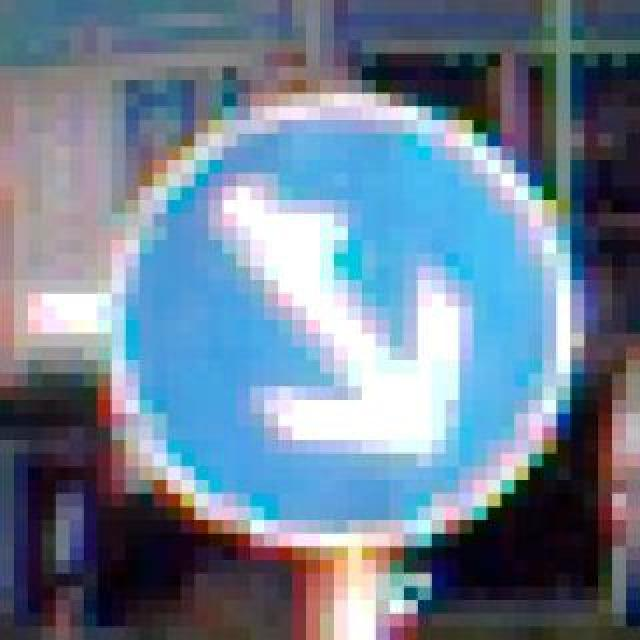keep right: (84, 80, 556, 548)
